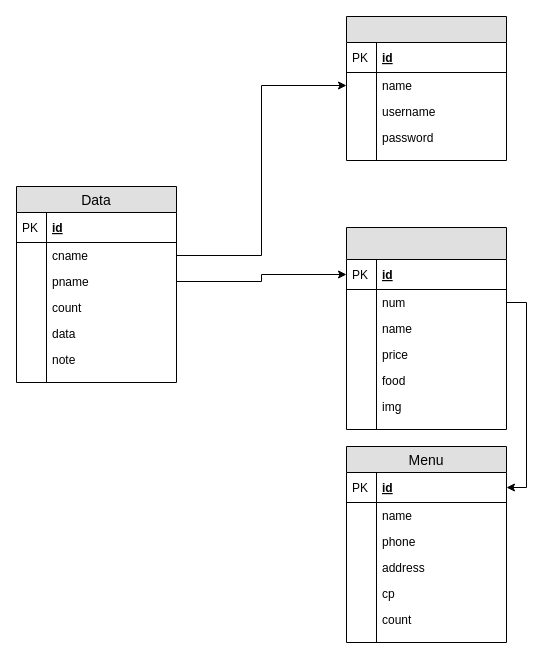
This 543x659 diagram has some shape labels left out. The box of each missing label's shape, as (x1, y1, x2, y2) in pixels:
Customer: (346, 16, 506, 160)
Product: (346, 226, 506, 430)
